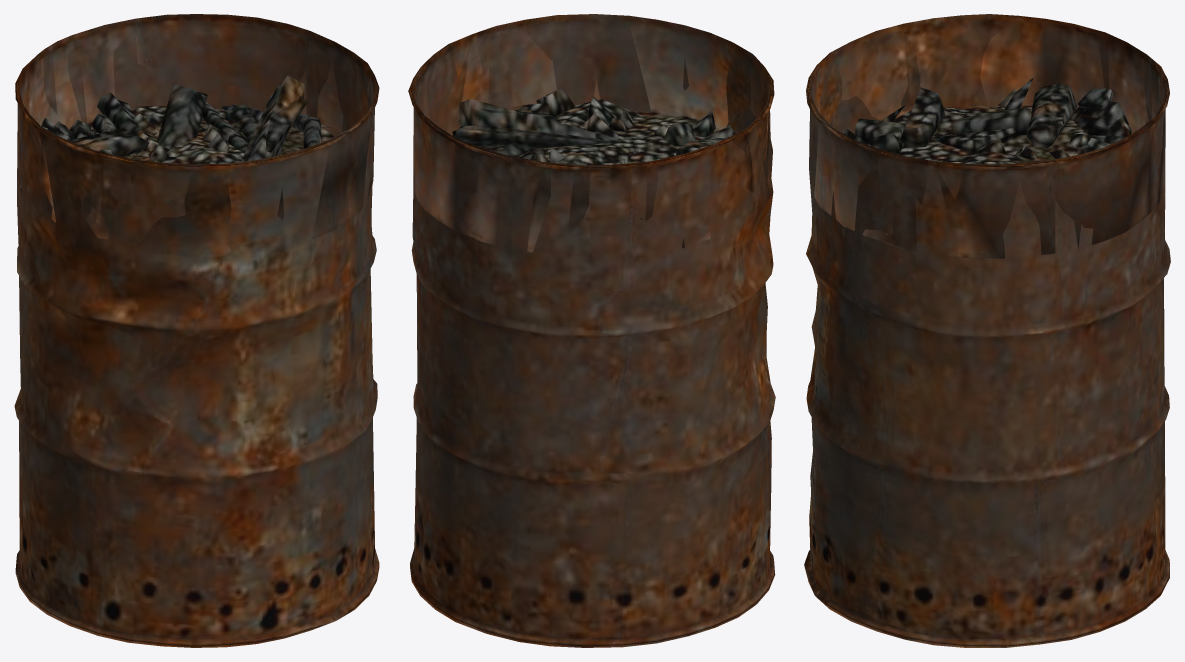
File: burn_barrel.glb
3 views of the same model, side by side, from view 1: azimuth 30°, elevation 25°; view 2: azimuth 150°, elevation 25°; view 3: azimuth 270°, elevation 25° (orthographic).
Parts seen in each view (by area): view 1: geometry_0; view 2: geometry_0; view 3: geometry_0.
Boxes of the visible parts, <box> form: geometry_0: <box>14,14,379,647</box>; geometry_0: <box>408,14,775,647</box>; geometry_0: <box>804,14,1170,647</box>.
Bounding box in the file's own units: 0.6584 × 0.95 × 0.6559.
1 material, 1 textured.
